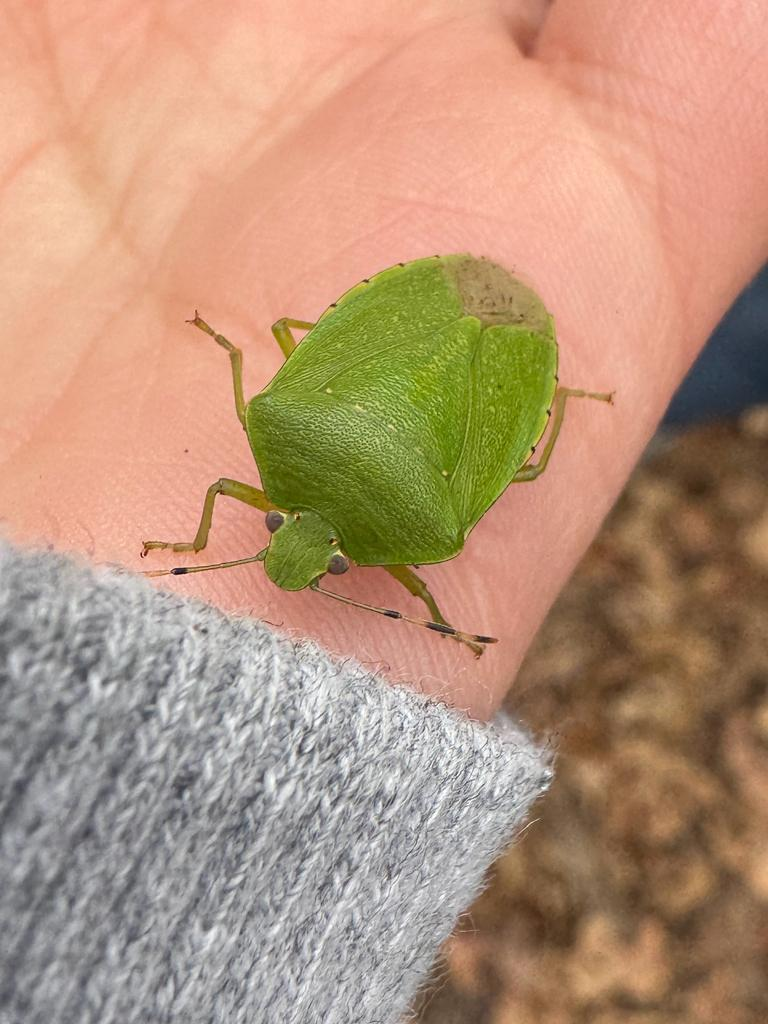stink_bugs: (97, 174, 676, 758)
